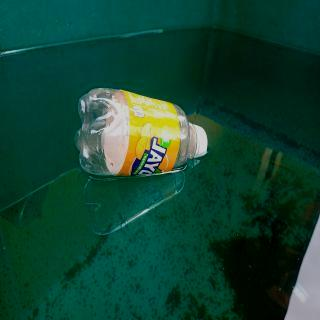bottle: (72, 84, 210, 182)
